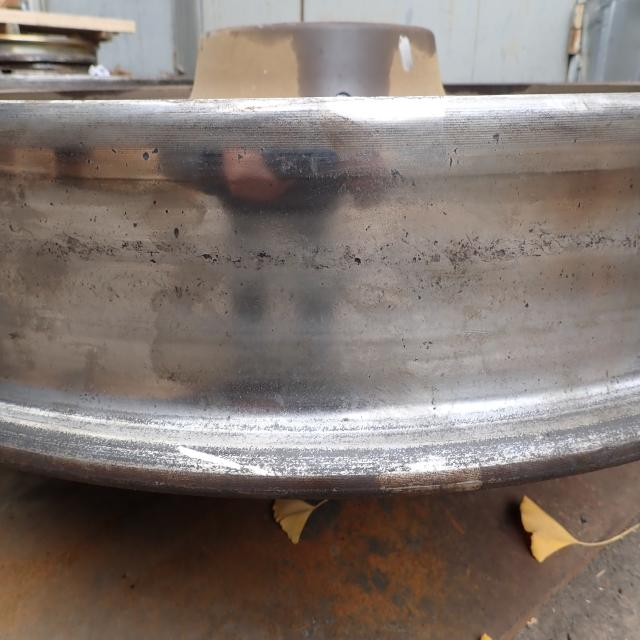Contact_Fatigue_Cracks: (411, 235, 531, 268), (59, 233, 176, 261), (202, 245, 288, 272), (541, 232, 635, 256), (305, 248, 365, 269)
